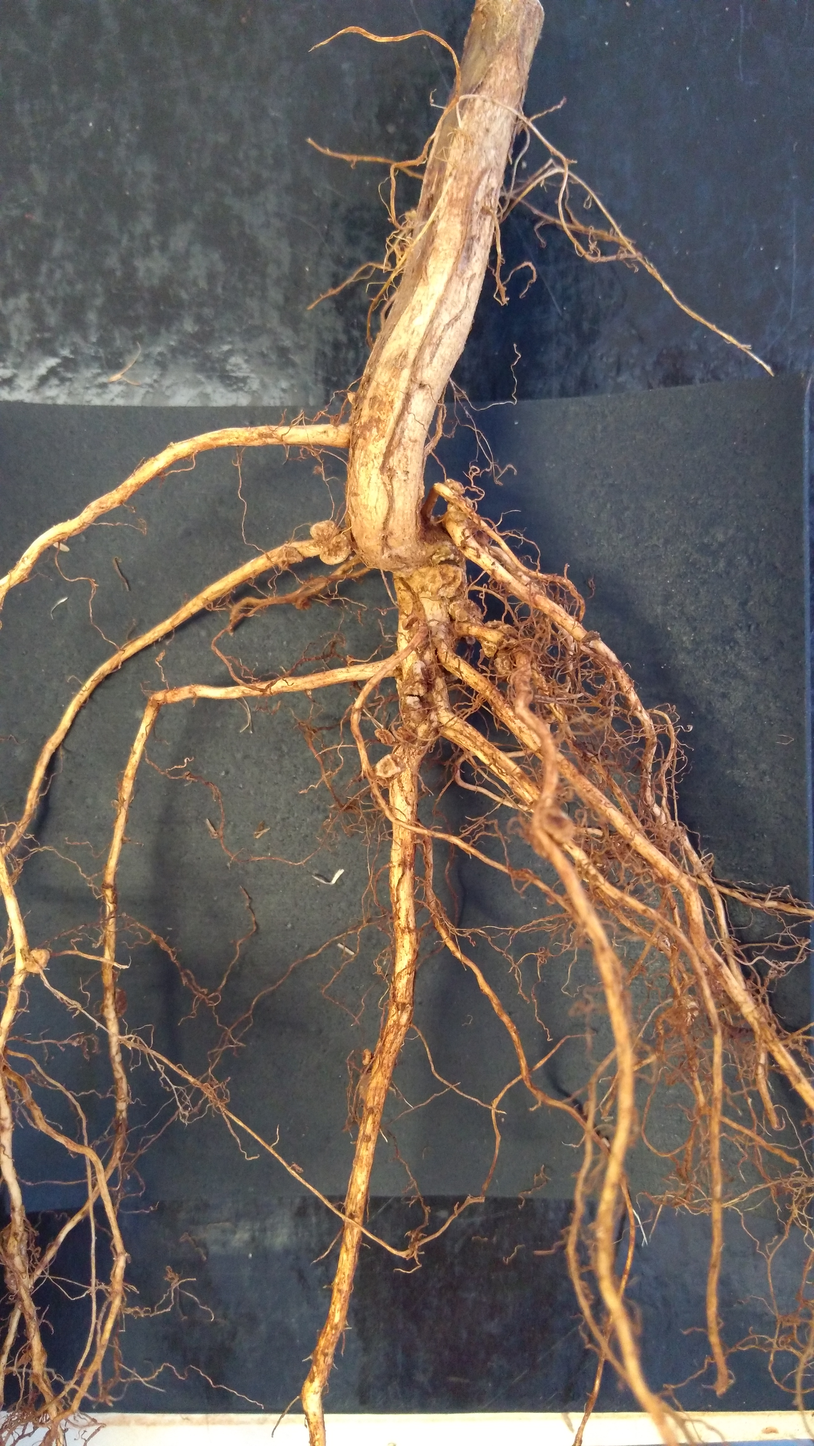nodule: (527, 806, 577, 861), (423, 562, 471, 599), (478, 618, 510, 660), (317, 534, 354, 567), (399, 659, 431, 697), (446, 598, 486, 626), (306, 516, 345, 543), (106, 981, 133, 1017), (373, 753, 405, 780), (25, 946, 52, 976), (648, 929, 675, 957), (446, 496, 475, 522), (430, 543, 463, 565), (276, 544, 304, 569), (493, 648, 514, 677), (372, 726, 397, 748), (397, 697, 426, 715), (444, 478, 466, 497), (395, 725, 417, 743), (359, 1046, 375, 1067), (399, 613, 419, 627)
